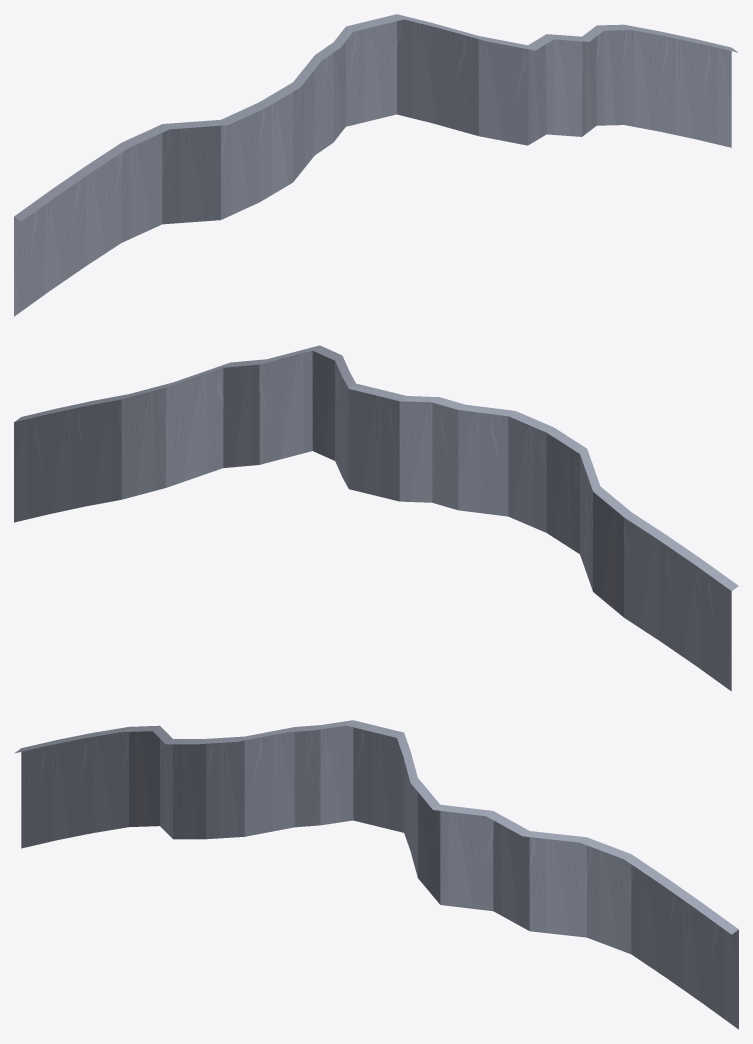
Rendered from Mesh_Adventure_SnowMountain_Ground_06_01.fbx.
3 renders of one model, top to bottom at view 1: azimuth 30°, elevation 25°; view 2: azimuth 150°, elevation 25°; view 3: azimuth 330°, elevation 25°, orthographic.
Visible parts, largest first — view 1: Mesh_Adventure_SnowMountain_Ground_06_01; view 2: Mesh_Adventure_SnowMountain_Ground_06_01; view 3: Mesh_Adventure_SnowMountain_Ground_06_01.
Part boxes in pixels (x1,y1,x2,y2): Mesh_Adventure_SnowMountain_Ground_06_01: [14, 14, 738, 316]; Mesh_Adventure_SnowMountain_Ground_06_01: [14, 345, 738, 691]; Mesh_Adventure_SnowMountain_Ground_06_01: [14, 720, 738, 1029].
Size of the model in its own units: 2700 by 775 by 356.
Materials: 1 (1 with a texture image).
